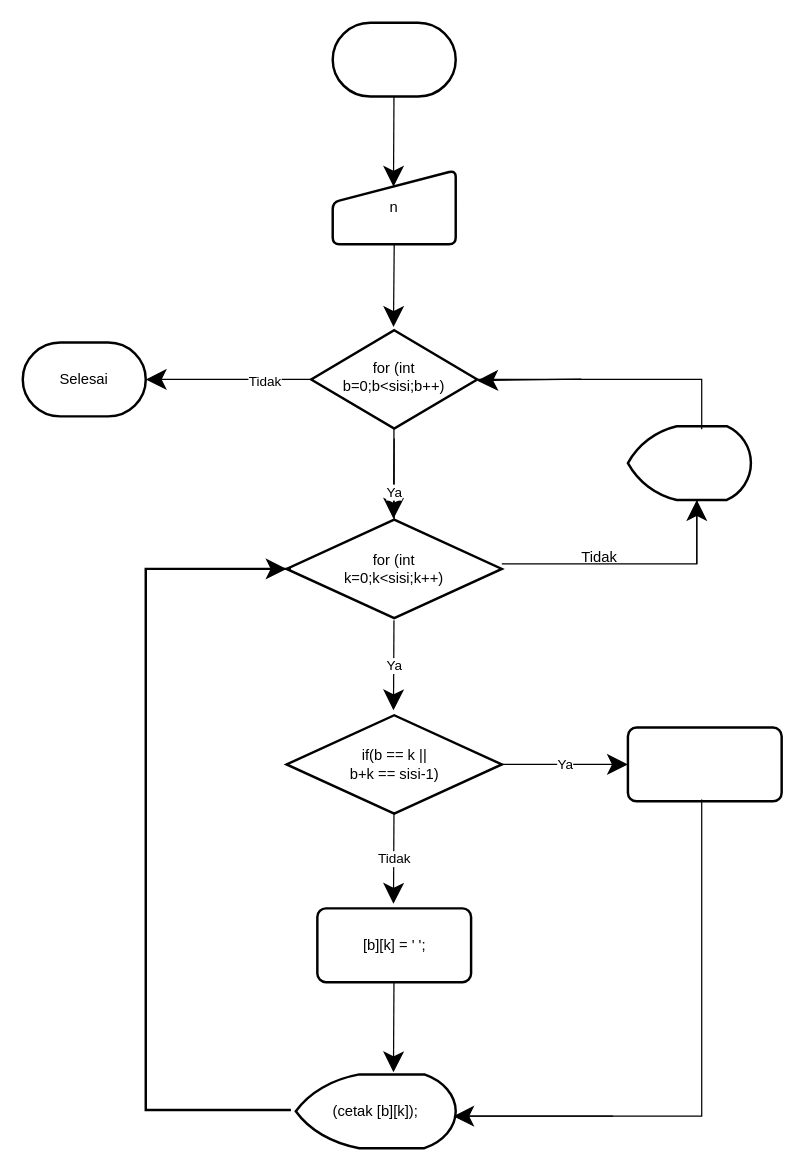
This 803x1170 diagram has some shape labels left out. The shapes that lost their labels are listed below. From the top down, each one's centre as x and y in pixels, then its label:
At (393,59): "Mulai".
At (689,462): "Newline".
At (704,764): "[b][k] = '*';".
